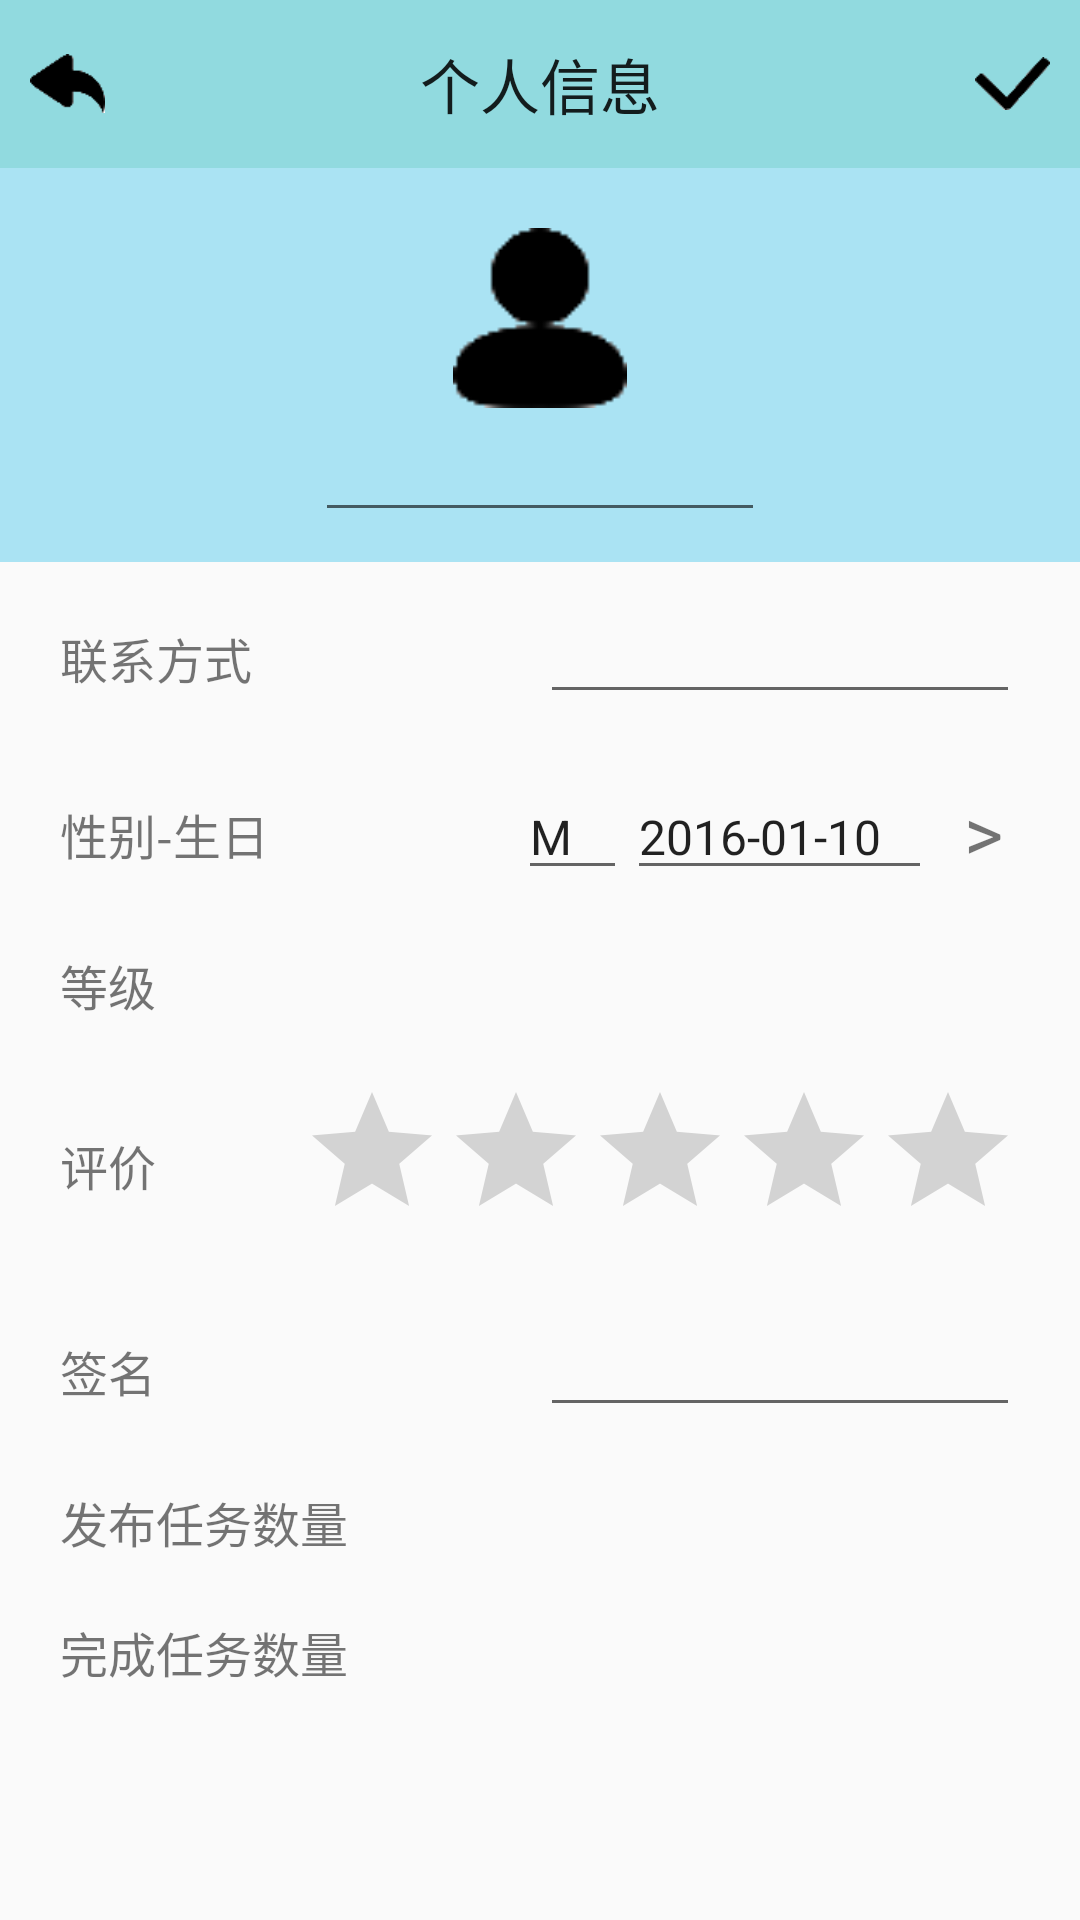

Screen size 1080x1920. Icon name, then its center in pixels as (x=x, y=y):
user: (x=540, y=318)
